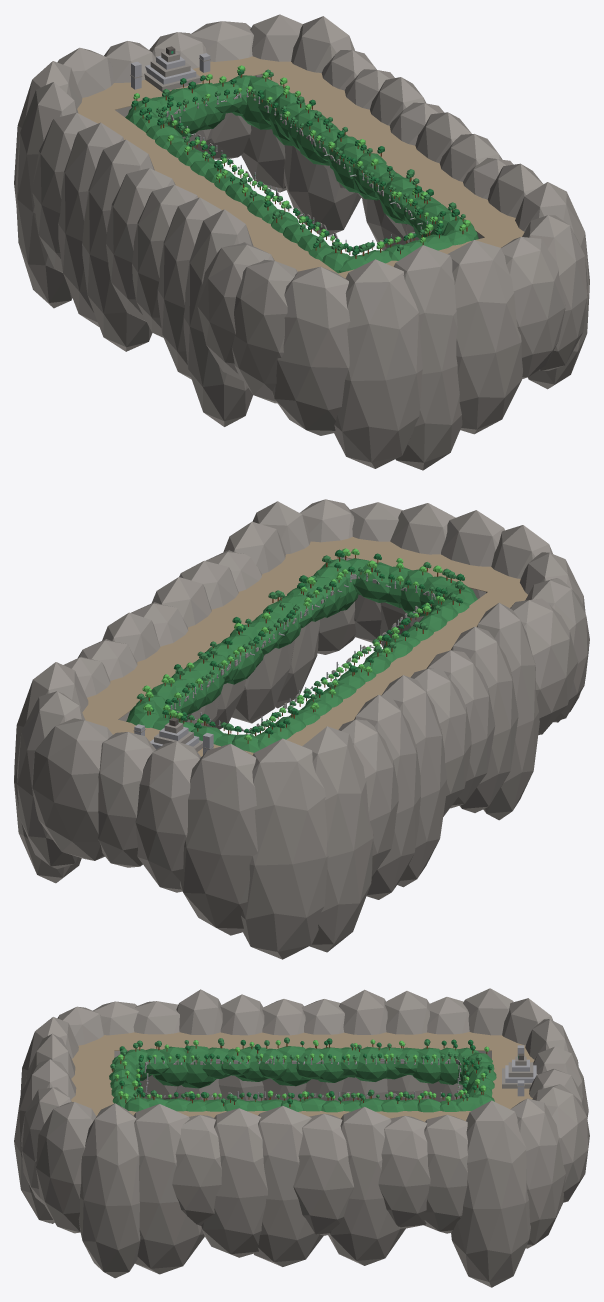
File: CatCafe_Ruins_Backdrop.glb
The picture shows the model from 3 angles, top to bottom: view 1: azimuth 30°, elevation 25°; view 2: azimuth 150°, elevation 25°; view 3: azimuth 270°, elevation 25°; orthographic projection. The views are drawn at different scales.
Visible parts, largest first — view 1: CatCafe_Ruins_Backdrop_HillsFar, CatCafe_Ruins_Backdrop_Hills, CatCafe_Ruins_Backdrop_Ground, CatCafe_Ruins_Backdrop; view 2: CatCafe_Ruins_Backdrop_HillsFar, CatCafe_Ruins_Backdrop_Hills, CatCafe_Ruins_Backdrop_Ground, CatCafe_Ruins_Backdrop; view 3: CatCafe_Ruins_Backdrop_HillsFar, CatCafe_Ruins_Backdrop_Hills, CatCafe_Ruins_Backdrop_Ground, CatCafe_Ruins_Backdrop.
Part boxes in pixels (x1,y1,x2,y2): CatCafe_Ruins_Backdrop_HillsFar: (14, 14, 589, 470); CatCafe_Ruins_Backdrop_Hills: (125, 75, 478, 273); CatCafe_Ruins_Backdrop_Ground: (77, 56, 524, 278); CatCafe_Ruins_Backdrop: (130, 46, 470, 258); CatCafe_Ruins_Backdrop_HillsFar: (14, 499, 589, 959); CatCafe_Ruins_Backdrop_Hills: (126, 558, 477, 752); CatCafe_Ruins_Backdrop_Ground: (82, 537, 527, 756); CatCafe_Ruins_Backdrop: (133, 548, 465, 754); CatCafe_Ruins_Backdrop_HillsFar: (14, 988, 589, 1287); CatCafe_Ruins_Backdrop_Hills: (109, 1045, 496, 1112); CatCafe_Ruins_Backdrop_Ground: (71, 1032, 534, 1121); CatCafe_Ruins_Backdrop: (110, 1037, 537, 1107).
Size of the model in its own units: 718 by 442 by 1205.
Materials: 1 (1 with a texture image).
